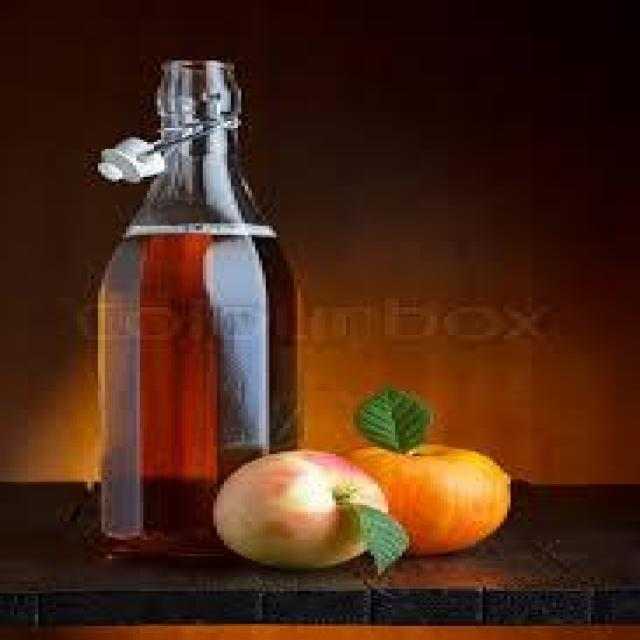apple: (189, 454, 402, 570), (328, 442, 511, 547)
